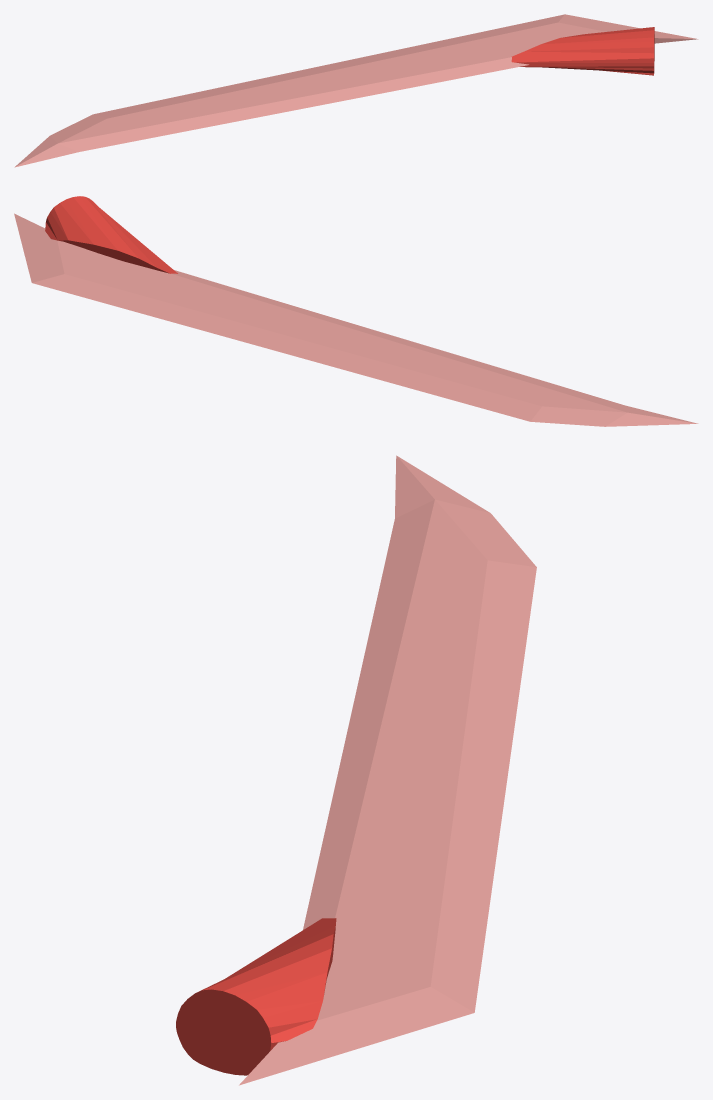
The model's file is Blade2.fbx.
3 renders of one model, top to bottom at view 1: azimuth 30°, elevation 25°; view 2: azimuth 150°, elevation 25°; view 3: azimuth 270°, elevation 25°, orthographic. The views are drawn at different scales.
Visible parts, largest first — view 1: Cube; view 2: Cube; view 3: Cube.
Part boxes in pixels (x1,y1,x2,y2): Cube: (14,14,698,167); Cube: (14,196,698,426); Cube: (176,455,536,1085).
Size of the model in its own units: 1691 by 102 by 409.
